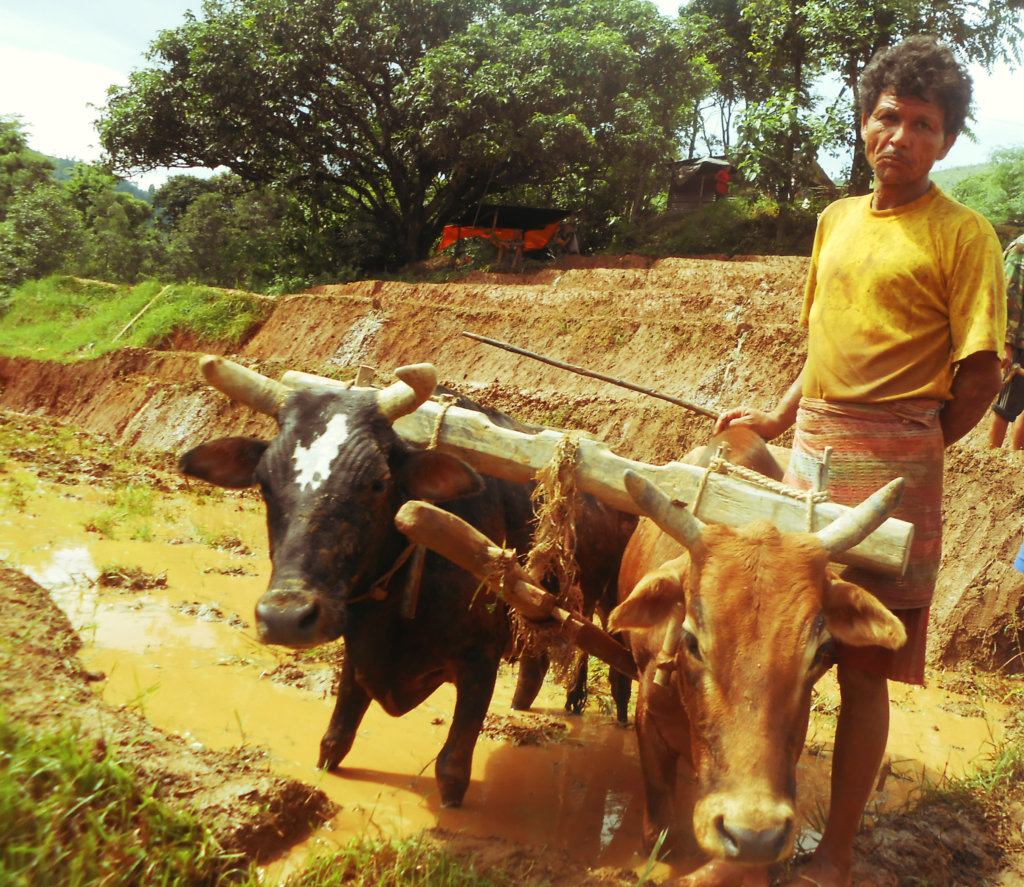human: (711, 24, 1010, 876)
